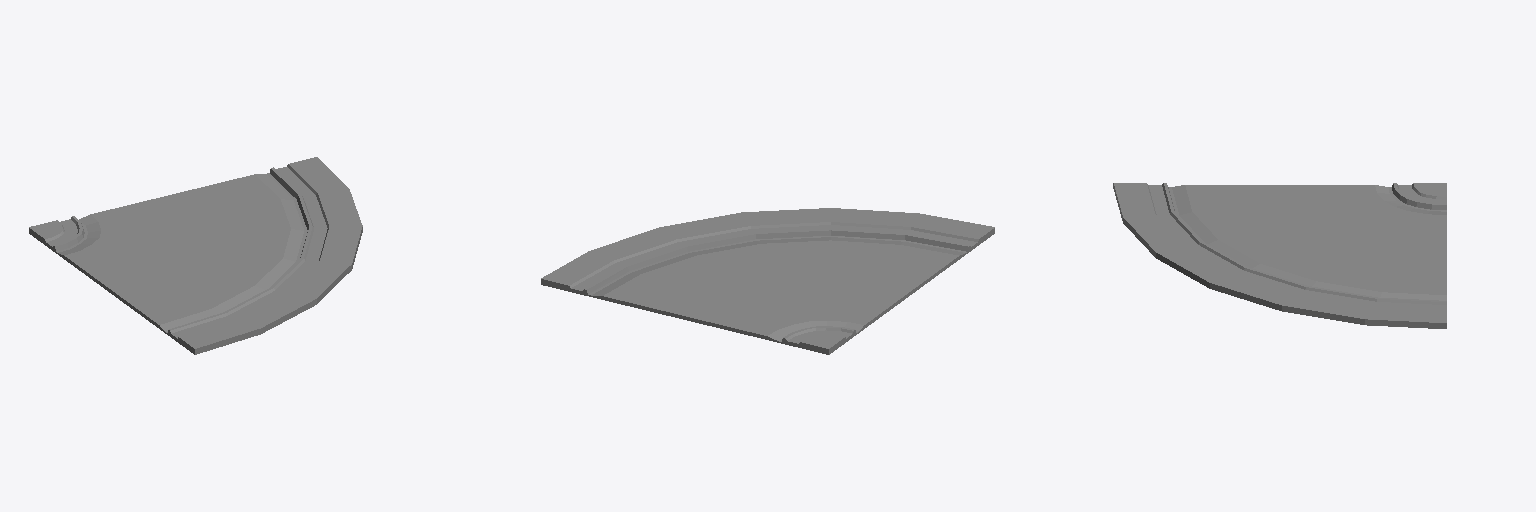
Rendered from Peralte_.obj.
3 renders of one model, left to right at view 1: azimuth 30°, elevation 25°; view 2: azimuth 150°, elevation 25°; view 3: azimuth 270°, elevation 25°, orthographic.
Parts seen in each view (by area): view 1: Road_2_Lane_Corner; view 2: Road_2_Lane_Corner; view 3: Road_2_Lane_Corner.
Boxes of the visible parts, box(x1,y1,x2,y2) form: Road_2_Lane_Corner: box(29, 157, 362, 354); Road_2_Lane_Corner: box(541, 208, 994, 354); Road_2_Lane_Corner: box(1113, 183, 1446, 328).
Bounding box in the file's own units: 3600 × 72 × 3600.